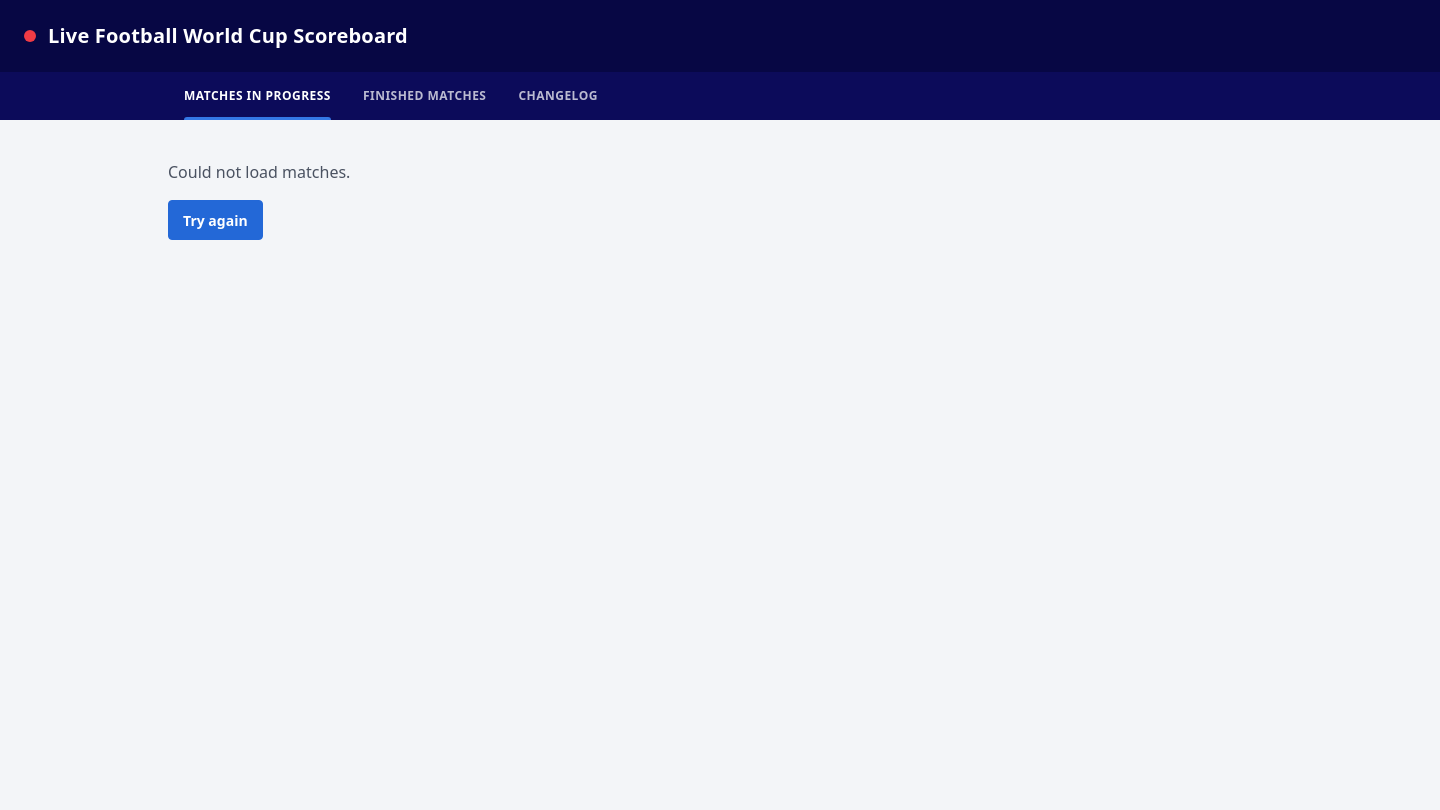
it: App › shows a load error and retries
Click the button "Try again": (215, 220) [168,200,263,240]
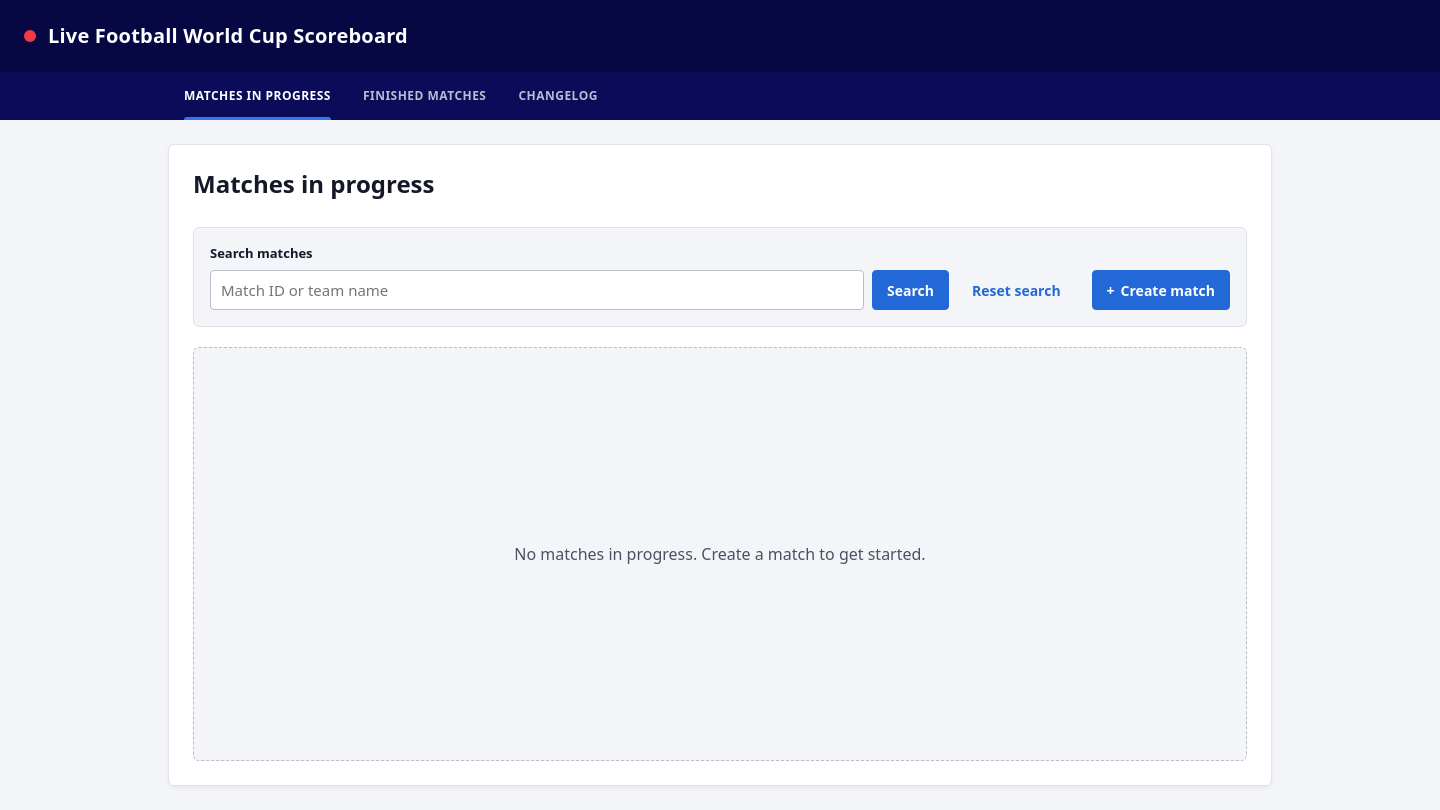
Check: the text "No matches in progress. Create a match to get started." is shown, box [193,347,1247,761]
